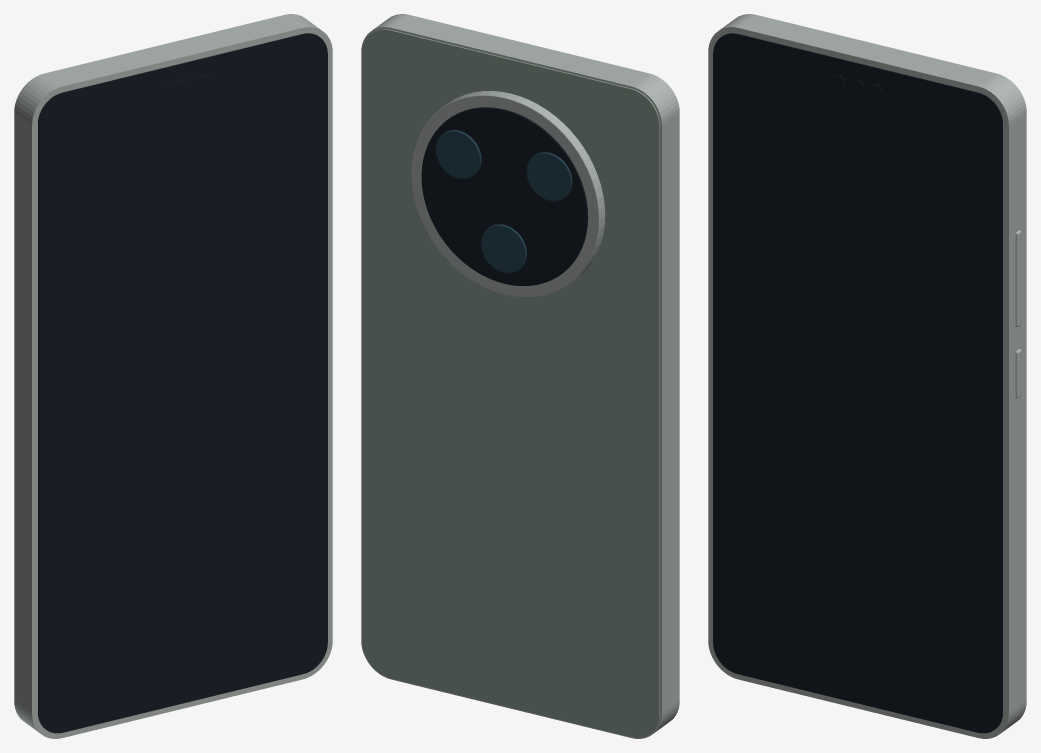
The model's file is huawei-mate70-pro.glb.
The picture shows the model from 3 angles, left to right: view 1: azimuth 30°, elevation 25°; view 2: azimuth 150°, elevation 25°; view 3: azimuth 330°, elevation 25°; orthographic projection.
Parts seen in each view (by area): view 1: Screen, Frame; view 2: Back, Frame, Camera_island, Camera_ring, Camera, Camera.001, Camera.002; view 3: Screen, Frame, Volume.
Boxes of the visible parts, left/top/right/bottom form: Screen: left=38, top=33, right=327, bottom=733; Frame: left=14, top=14, right=332, bottom=738; Back: left=362, top=29, right=659, bottom=737; Frame: left=361, top=14, right=679, bottom=738; Camera_island: left=421, top=107, right=588, bottom=285; Camera_ring: left=411, top=91, right=605, bottom=297; Camera: left=526, top=152, right=572, bottom=201; Camera.001: left=435, top=130, right=481, bottom=178; Camera.002: left=481, top=224, right=526, bottom=273; Screen: left=713, top=33, right=1002, bottom=733; Frame: left=708, top=14, right=1026, bottom=738; Volume: left=1015, top=230, right=1021, bottom=326.
Bounding box in the file's own units: 80.1 × 165 × 12.6.
